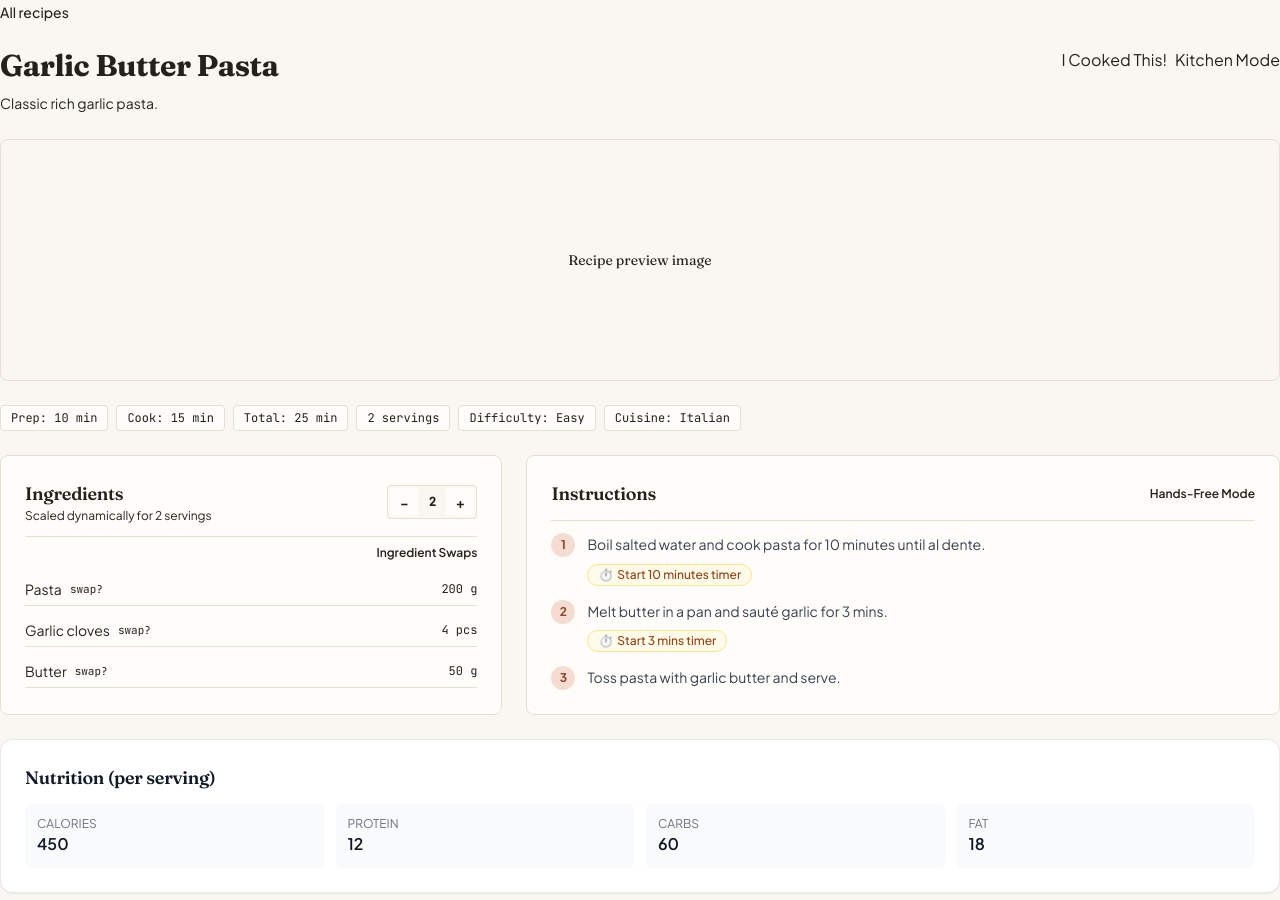
Test case: RecipeDetailPage guest browsing › opens the swaps modal for guests instead of sending them to sign in
Click the button "swap?" in the row of "200".
click(86, 589)  # box [70, 579, 103, 599]
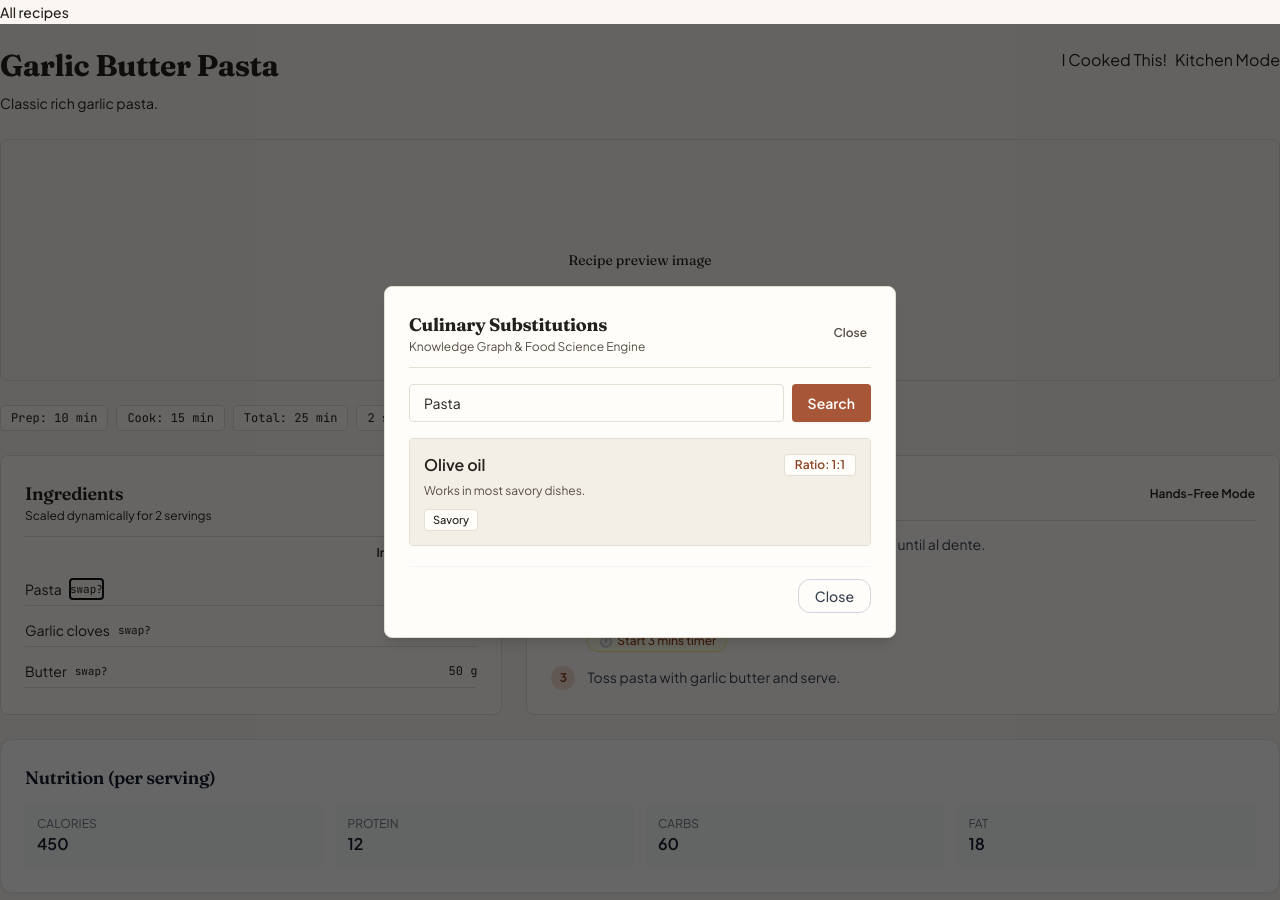
Expected: the heading "Culinary Substitutions" is shown, [409, 313, 607, 336]
Expected: the text "Olive oil" is shown, [424, 453, 485, 477]
